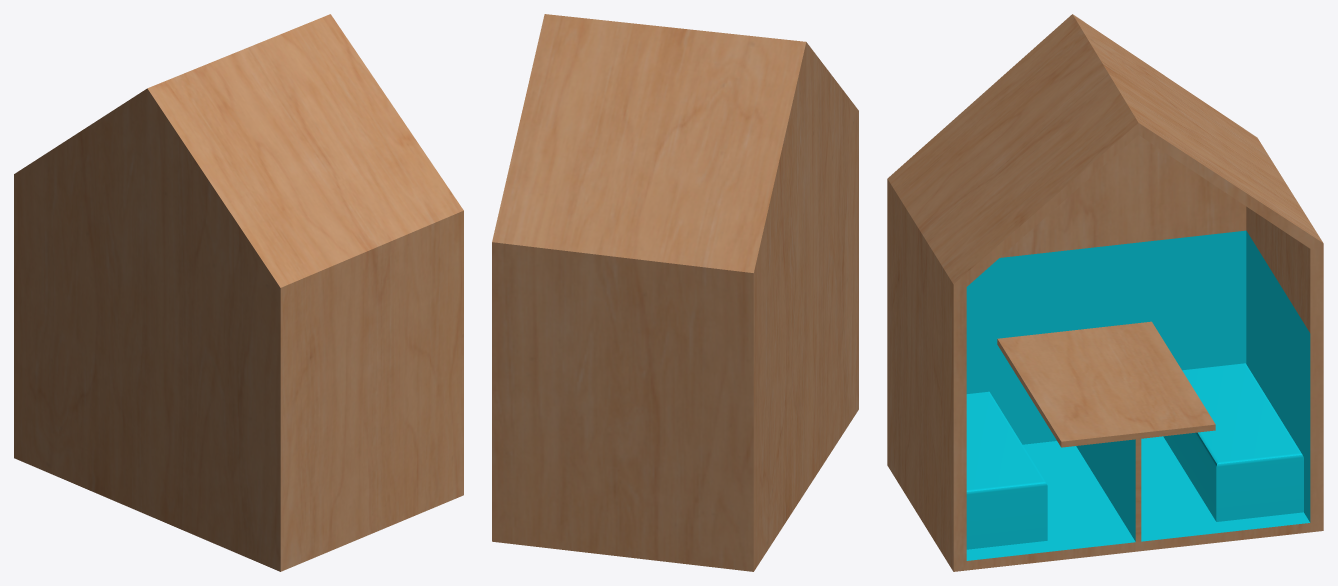
The model's file is Prop_F5_House.fbx.
The picture shows the model from 3 angles, left to right: view 1: azimuth 30°, elevation 25°; view 2: azimuth 150°, elevation 25°; view 3: azimuth 270°, elevation 25°; orthographic projection. The views are drawn at different scales.
Parts seen in each view (by area): view 1: Prop_F5_House; view 2: Prop_F5_House; view 3: Prop_F5_House.
Part boxes in pixels (bbox=[...]): Prop_F5_House: bbox=[14, 14, 463, 571]; Prop_F5_House: bbox=[492, 14, 858, 571]; Prop_F5_House: bbox=[887, 14, 1323, 571].
Size of the model in its own units: 214 by 291 by 267.
2 materials, 1 textured.
